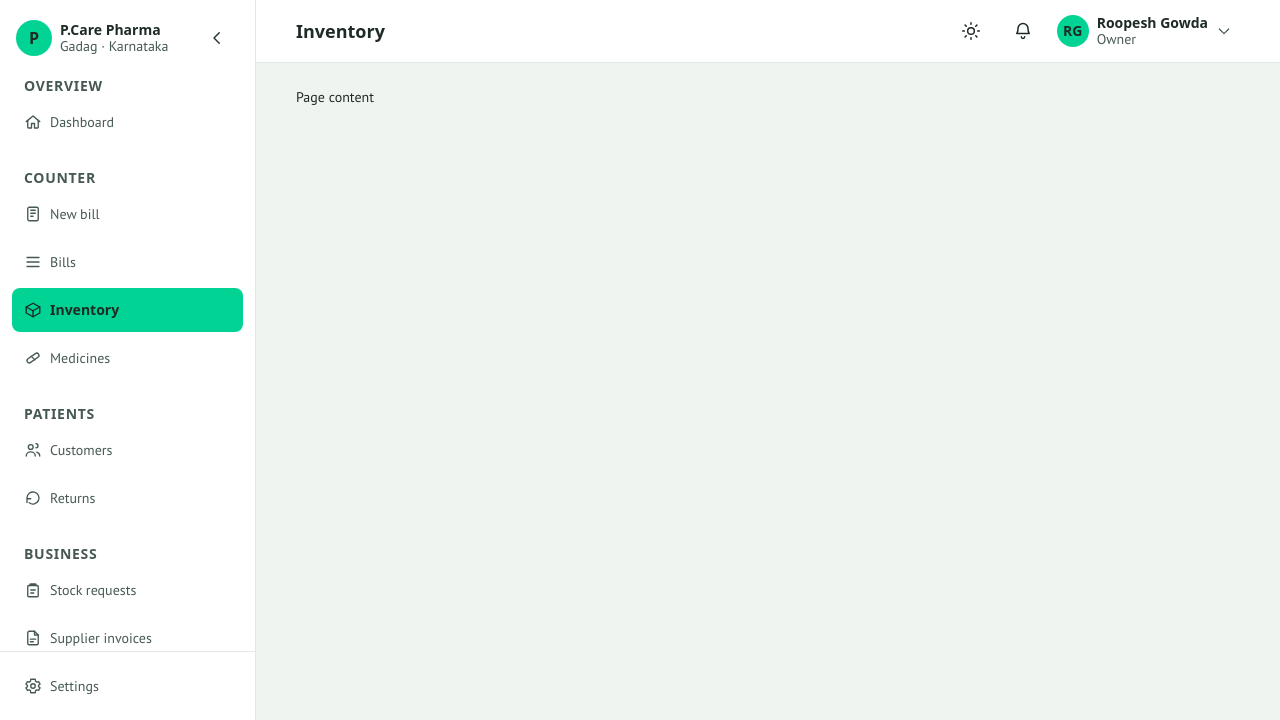
Test case: AppShell — account menu › carries identity and sign-out in the header, not the rail
This screenshot has width=1280, height=720.
Expected: the button "log out" is not shown
Step 1. Click the button with aria-label "Account: Roopesh Gowda" → (1146, 31), box [1053,9,1240,53]
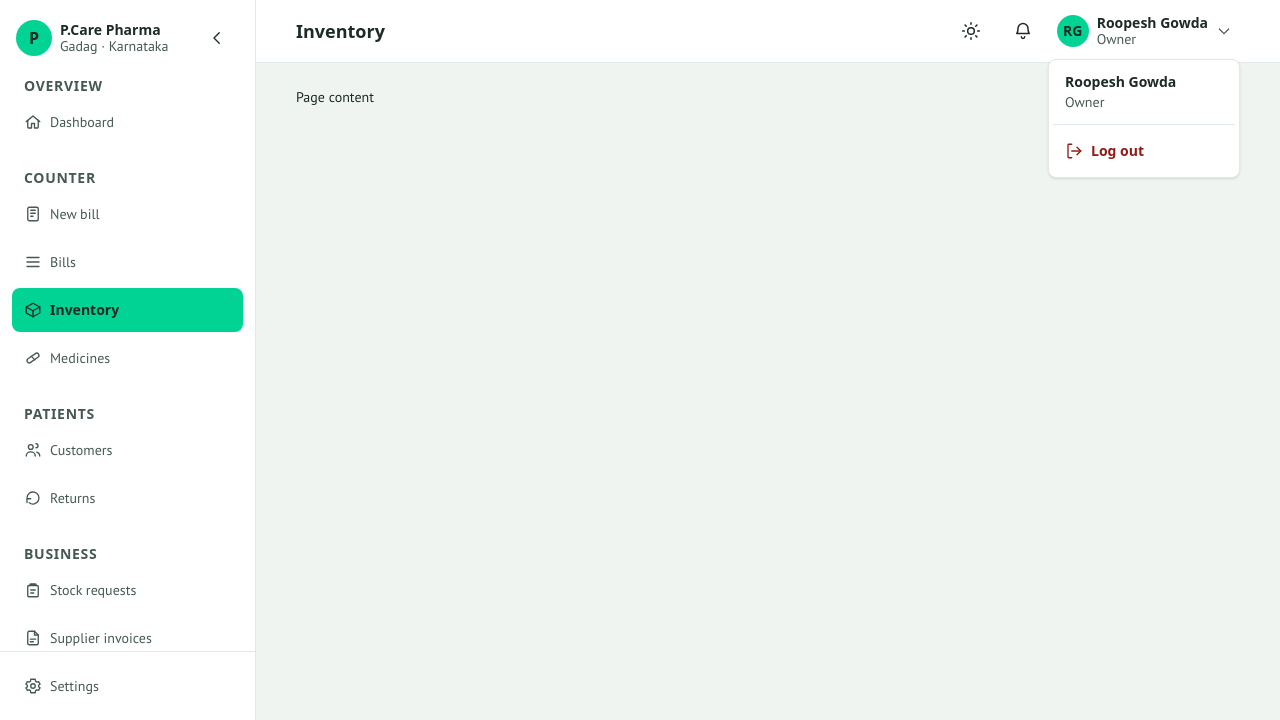
Result: the menu item "Log out" is shown at [1065,141,1144,160]
